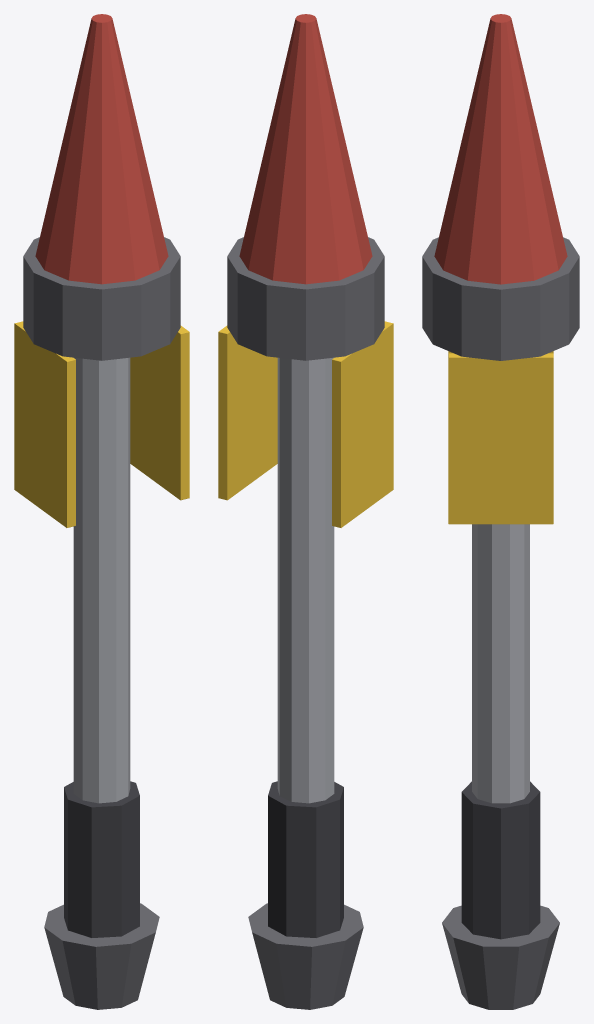
Rendered from ram-lance.glb.
3 renders of one model, left to right at view 1: azimuth 30°, elevation 25°; view 2: azimuth 150°, elevation 25°; view 3: azimuth 270°, elevation 25°, orthographic.
Visible parts, largest first — view 1: shaft, tip, collar, grip, boostfin-0.05, boostfin0.05, nozzle; view 2: shaft, tip, collar, grip, boostfin-0.05, boostfin0.05, nozzle; view 3: tip, boostfin0.05, shaft, collar, grip, nozzle.
Boxes of the visible parts, x1,y1,x2,y2 form: shaft: (73,357,130,803); tip: (35,14,168,284); collar: (23,237,180,360); grip: (64,781,139,937); boostfin-0.05: (14,321,75,527); boostfin0.05: (130,325,189,500); nozzle: (44,903,159,1009); shaft: (277,357,334,803); tip: (239,14,372,284); collar: (227,237,384,360); grip: (268,781,343,937); boostfin-0.05: (332,321,393,527); boostfin0.05: (218,325,277,500); nozzle: (248,903,363,1009); tip: (434,14,567,284); boostfin0.05: (448,353,553,524); shaft: (472,524,529,803); collar: (422,237,579,360); grip: (461,781,540,939); nozzle: (442,905,559,1009).
Size of the model in its own units: 0.12 by 0.82 by 0.12.
